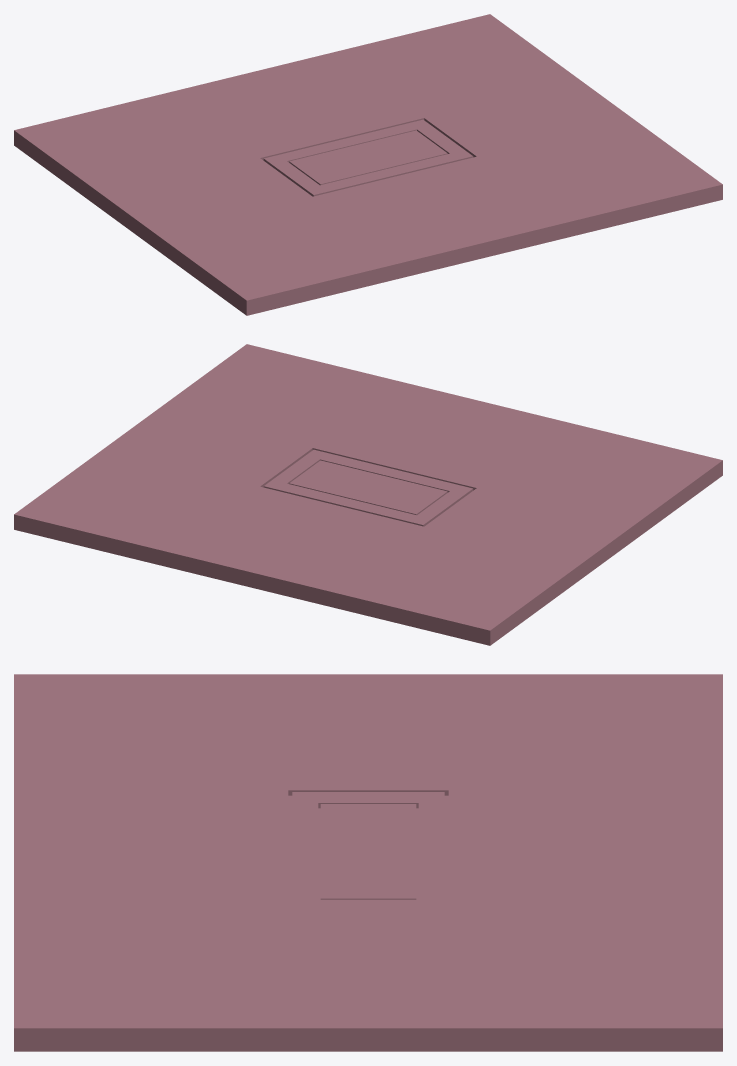
File: ground.glb
3 renders of one model, top to bottom at view 1: azimuth 30°, elevation 25°; view 2: azimuth 150°, elevation 25°; view 3: azimuth 270°, elevation 25°, orthographic. The views are drawn at different scales.
Parts seen in each view (by area): view 1: 3DGeom-1; view 2: 3DGeom-1; view 3: 3DGeom-1.
Part boxes in pixels (left/top/right/bottom): 3DGeom-1: left=14, top=14, right=722, bottom=315; 3DGeom-1: left=14, top=344, right=722, bottom=645; 3DGeom-1: left=14, top=674, right=722, bottom=1051.
Size of the model in its own units: 327 by 10 by 277.
